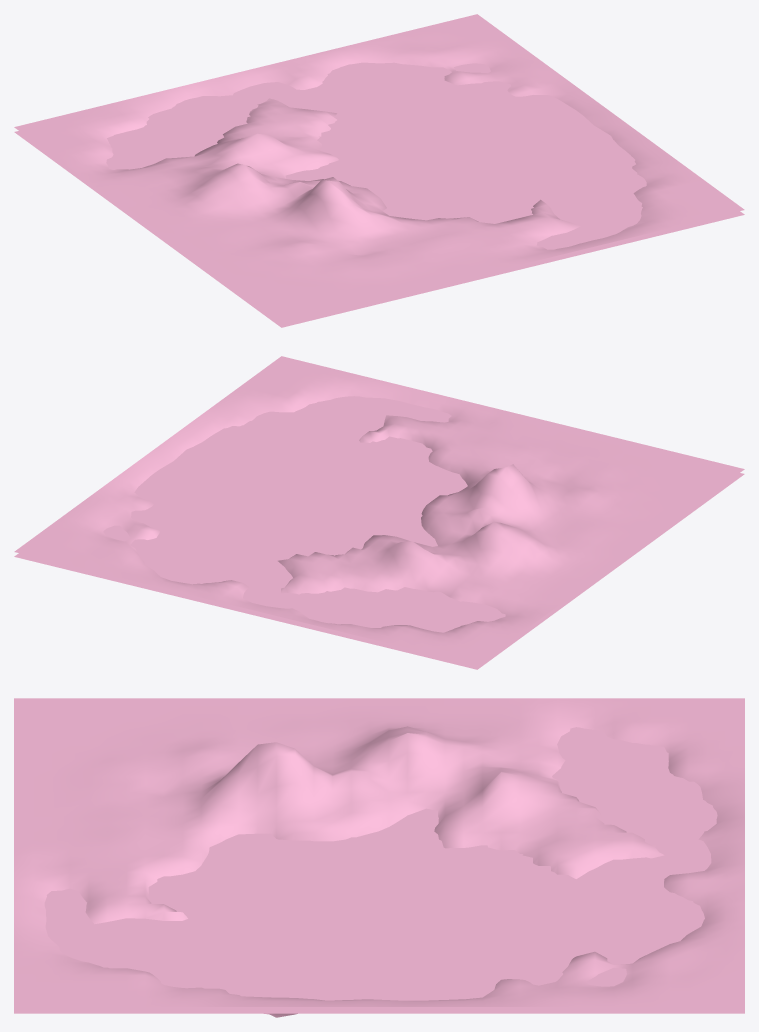
The picture shows the model from 3 angles, top to bottom: view 1: azimuth 30°, elevation 25°; view 2: azimuth 150°, elevation 25°; view 3: azimuth 270°, elevation 25°; orthographic projection. The views are drawn at different scales.
Parts seen in each view (by area): view 1: Landscape.003_2, Landscape_plane_3; view 2: Landscape.003_2, Landscape_plane_3; view 3: Landscape.003_2, Landscape_plane_3.
Part boxes in pixels (x1=…): Landscape.003_2: x1=14, y1=14, x2=744, y2=322; Landscape_plane_3: x1=14, y1=62, x2=744, y2=327; Landscape.003_2: x1=14, y1=356, x2=744, y2=664; Landscape_plane_3: x1=14, y1=396, x2=744, y2=669; Landscape.003_2: x1=14, y1=698, x2=744, y2=1017; Landscape_plane_3: x1=14, y1=727, x2=744, y2=1013.
Bounding box in the file's own units: 2 × 0.3964 × 2.
